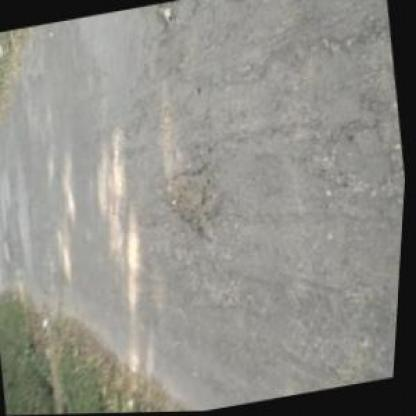pothole: (152, 157, 236, 254), (150, 0, 184, 39)
